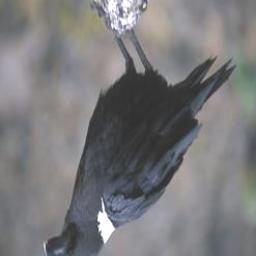Crow: (42, 0, 237, 256)
